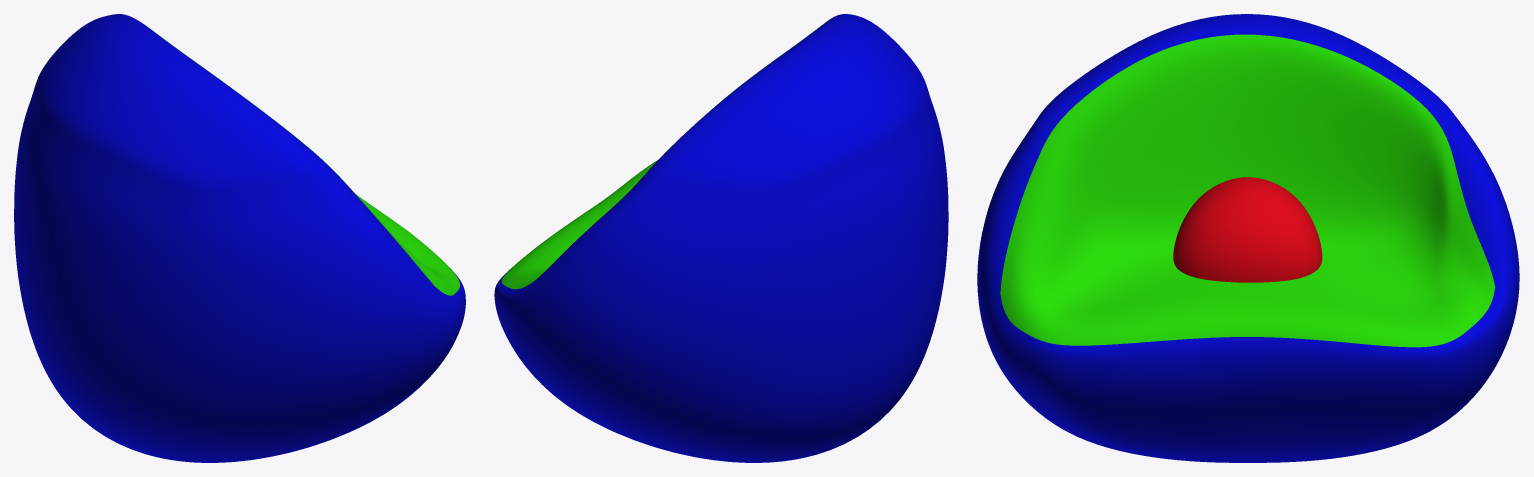
Rendered from High_Núcleo.892f70d4.fbx.
3 renders of one model, left to right at view 1: azimuth 30°, elevation 25°; view 2: azimuth 150°, elevation 25°; view 3: azimuth 270°, elevation 25°, orthographic.
Parts seen in each view (by area): view 1: NÚCLEO; view 2: NÚCLEO; view 3: NÚCLEO.
Part boxes in pixels (x1,y1,x2,y2): NÚCLEO: (14,14,465,462); NÚCLEO: (494,14,948,462); NÚCLEO: (977,14,1519,462).
Size of the model in its own units: 175 by 205 by 248.
